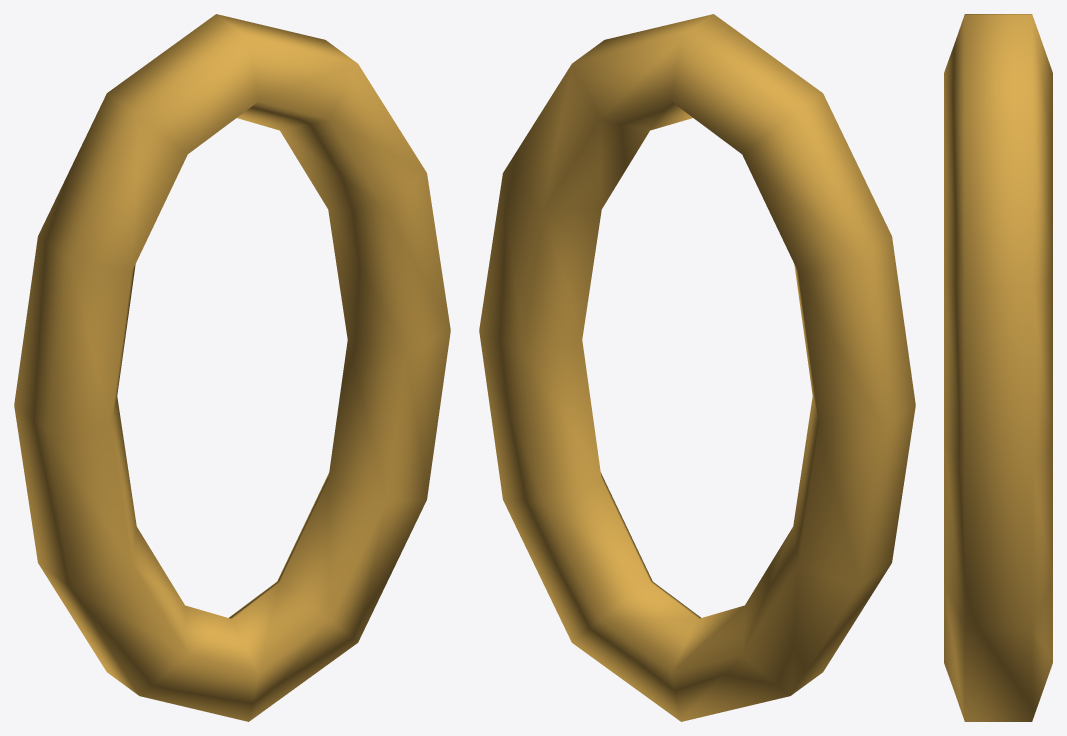
Rendered from toy-chain-link.glb.
3 renders of one model, left to right at view 1: azimuth 30°, elevation 25°; view 2: azimuth 150°, elevation 25°; view 3: azimuth 270°, elevation 25°, orthographic. The views are drawn at different scales.
Visible parts, largest first — view 1: toy_chain_link; view 2: toy_chain_link; view 3: toy_chain_link.
Part boxes in pixels (<box>): toy_chain_link: <box>14,14,450,721</box>; toy_chain_link: <box>479,14,915,721</box>; toy_chain_link: <box>944,14,1052,721</box>.
Bounding box in the file's own units: 0.2105 × 0.3405 × 0.0476.
